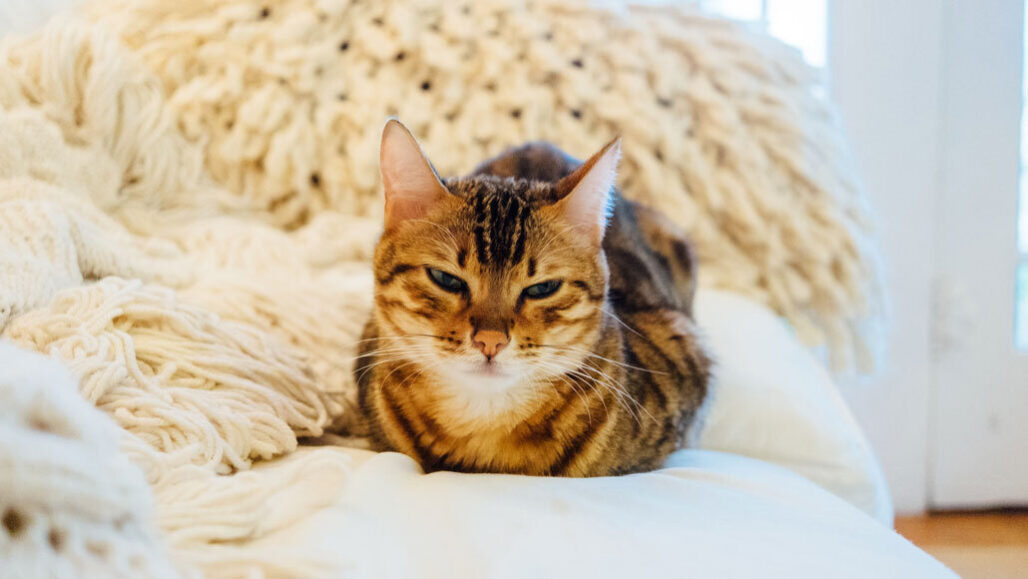cat: (314, 86, 710, 440)
